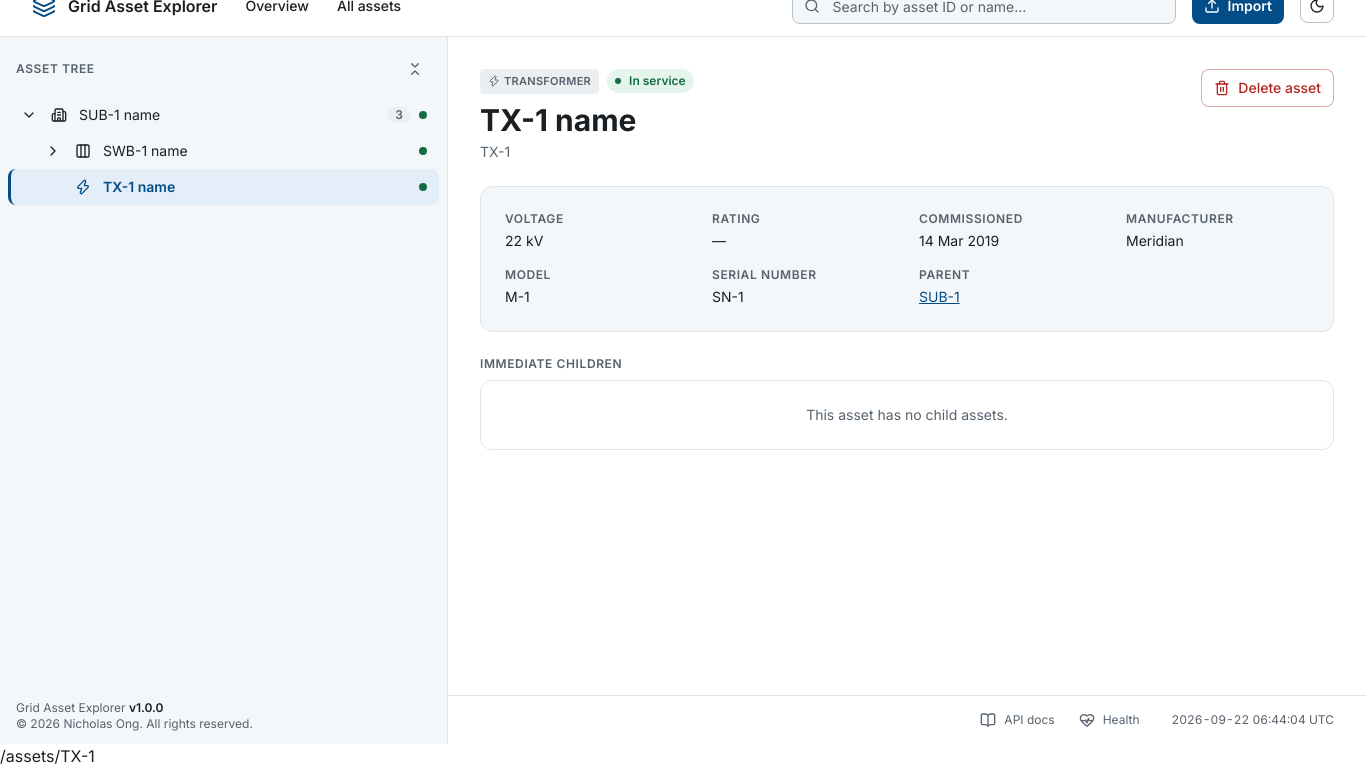
AssetDetailsPanel › shows the API refusal inside the dialog and stays put
(page scrolled)
Click the button "Delete asset". click: (1268, 88)
box: [1201, 69, 1334, 107]
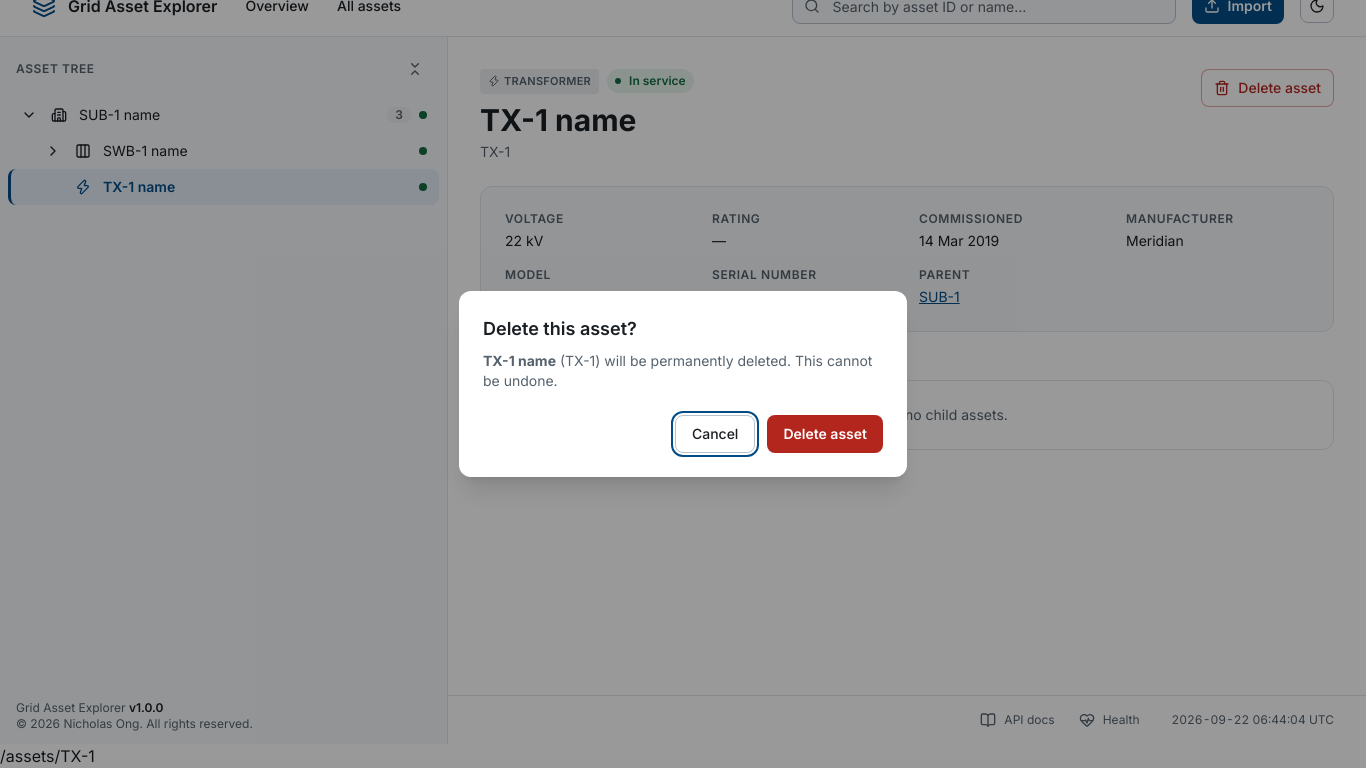
Click the button "Delete asset". click: (825, 434)
box: [767, 415, 883, 453]
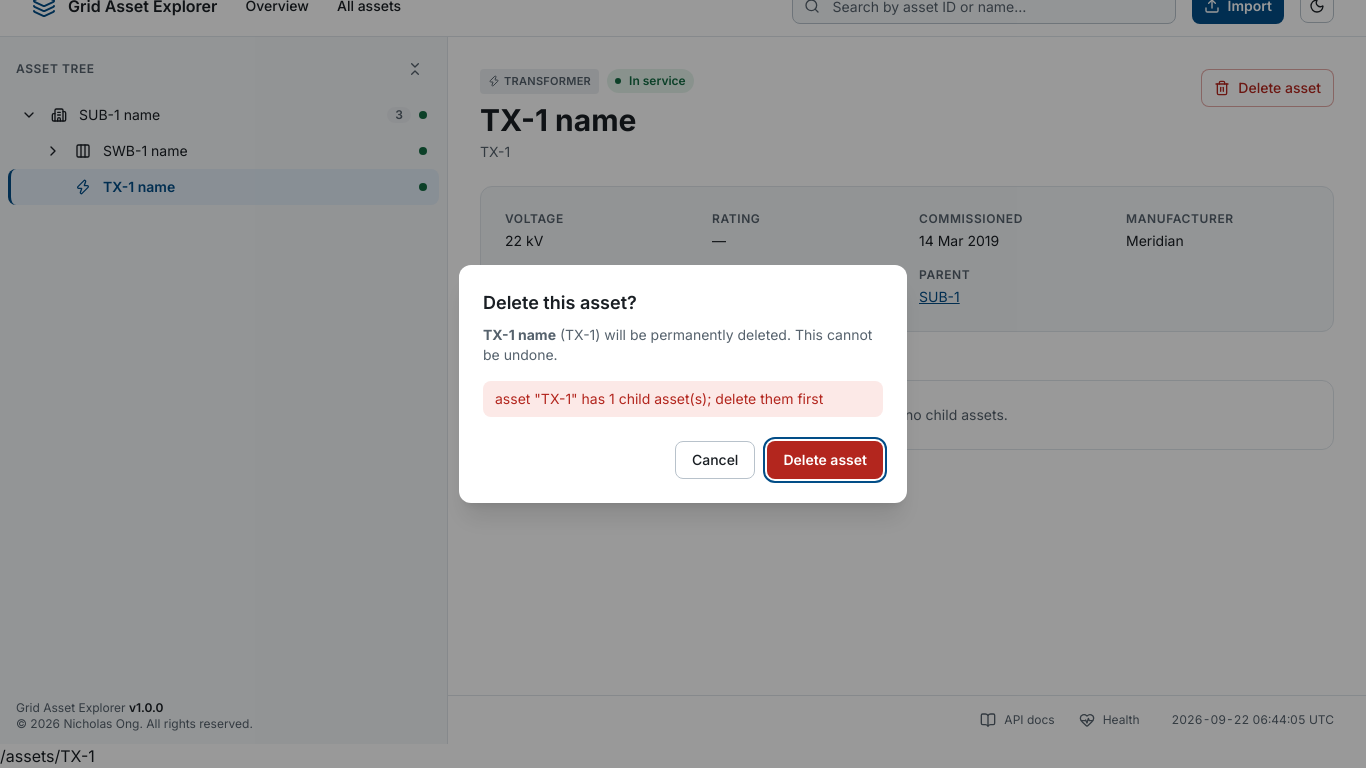
expect the text with test id "location" reads "/assets/TX-1": met, box [0, 746, 95, 766]
expect the text "asset \"TX-1\" has 1 child asset(s); delete them first" is shown: met, box [483, 381, 883, 417]
